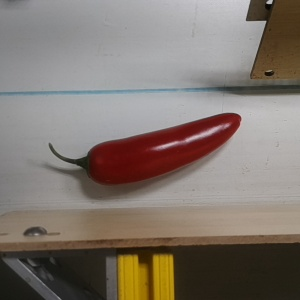Cut Point: (75, 144, 109, 186)
